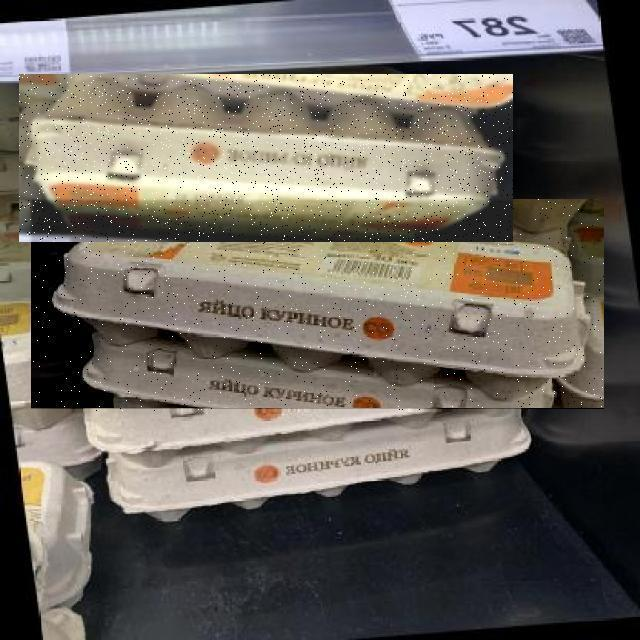Eggs: (31, 200, 604, 412), (19, 75, 513, 243)
